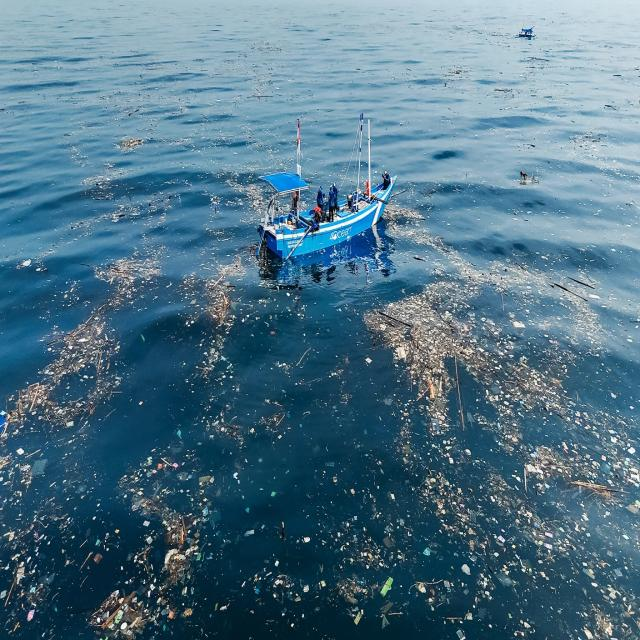plastic watse: (366, 237, 600, 447), (367, 283, 592, 493), (423, 472, 545, 605), (10, 303, 115, 421), (121, 459, 197, 583), (481, 471, 579, 557), (197, 262, 239, 377), (92, 590, 149, 637), (430, 405, 470, 463), (96, 258, 160, 294)
